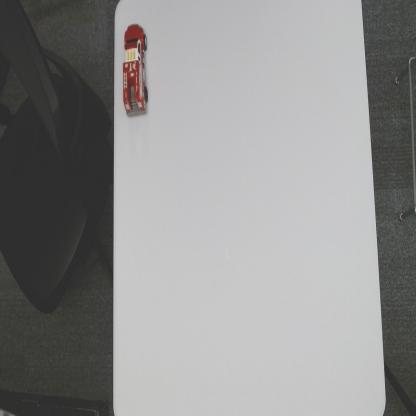Firetruck: (122, 22, 150, 121)
